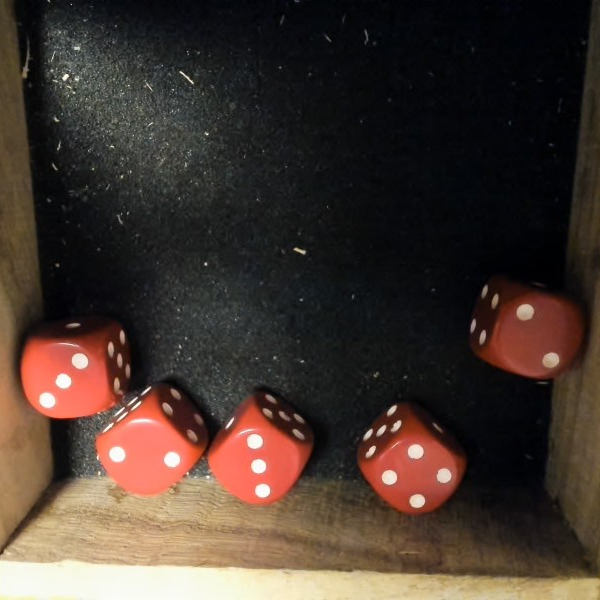red_die_pip2: (80, 370, 222, 511), (452, 265, 597, 393)
red_die_pip3: (189, 377, 333, 525), (20, 315, 134, 423)
red_die_pip4: (338, 385, 479, 526)
